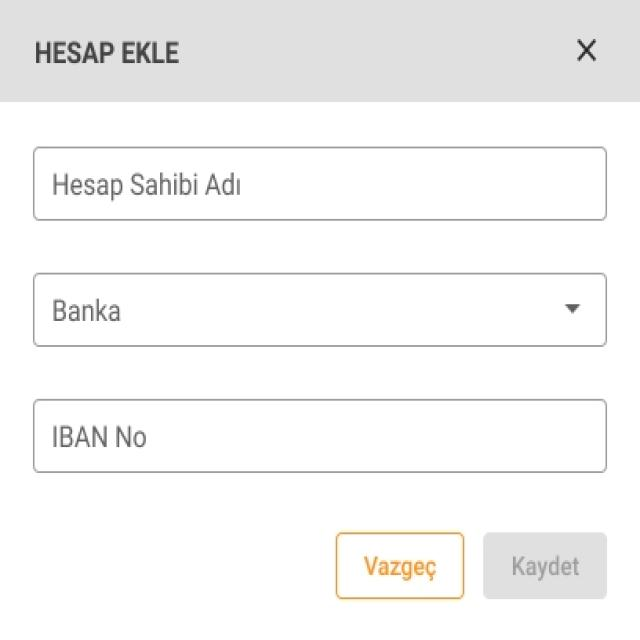QLabel: (24, 37, 187, 70), (353, 548, 438, 584), (503, 550, 584, 585)
VBtn: (337, 530, 465, 599), (481, 530, 608, 599)
VCheckbox: (32, 272, 608, 348)
VDialog: (0, 0, 640, 640), (0, 0, 640, 640)
VIcon: (562, 34, 603, 69)
VTextField: (31, 145, 610, 223), (32, 397, 608, 472)
